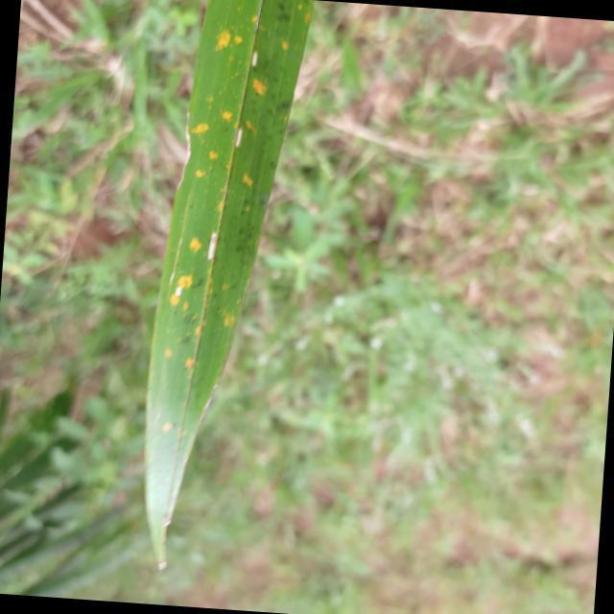Kalium: (138, 0, 321, 581)
